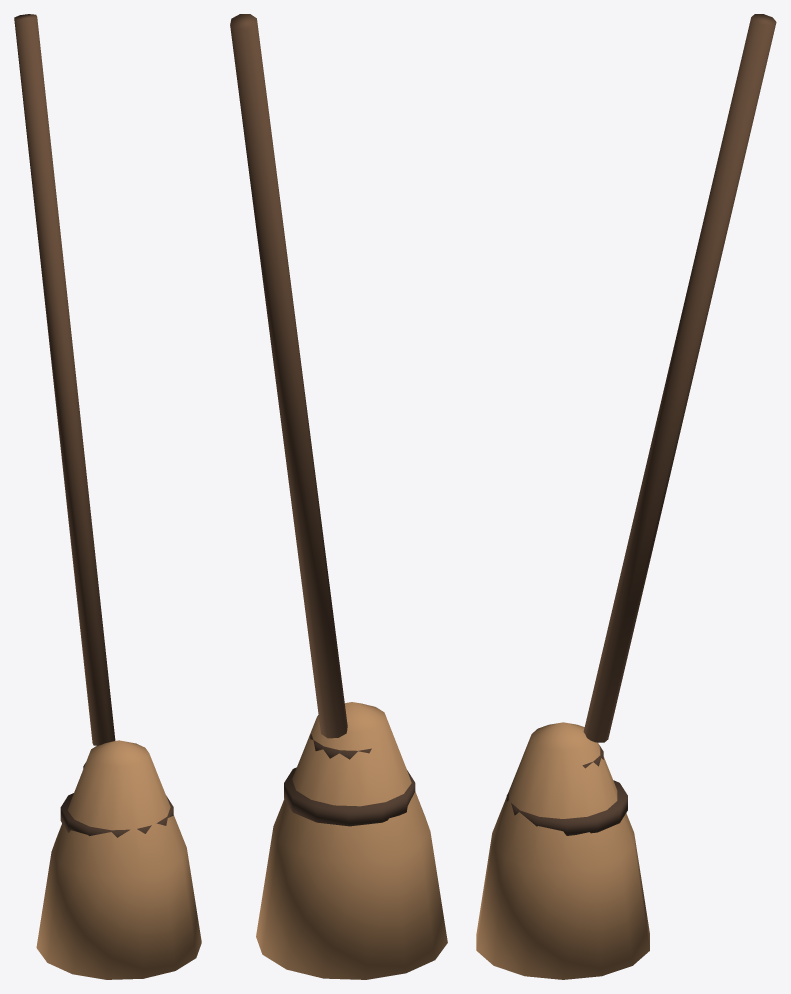
Rendered from broom.glb.
3 renders of one model, left to right at view 1: azimuth 30°, elevation 25°; view 2: azimuth 150°, elevation 25°; view 3: azimuth 270°, elevation 25°, orthographic. The views are drawn at different scales.
Parts seen in each view (by area): view 1: broom; view 2: broom; view 3: broom.
Boxes of the visible parts, left/top/right/bottom form: broom: left=14, top=14, right=201, bottom=979; broom: left=230, top=14, right=447, bottom=979; broom: left=476, top=14, right=776, bottom=979.
Size of the model in its own units: 0.22 by 1.26 by 0.3708.
